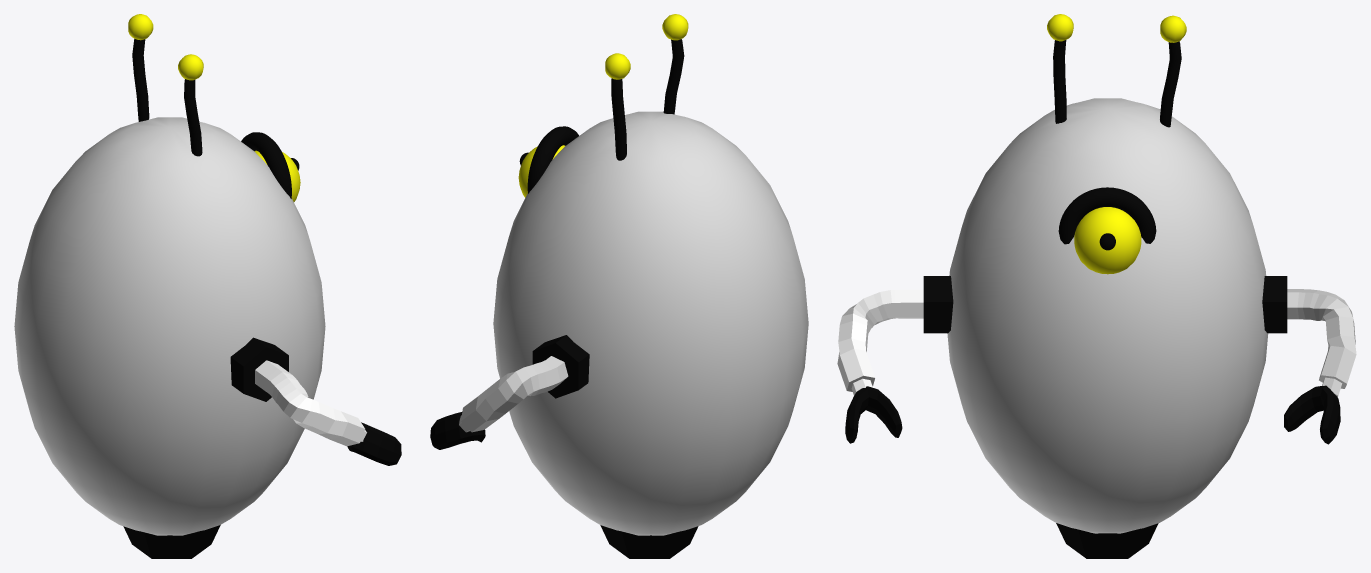
Rendered from New Robot Edited.fbx.
3 views of the same model, side by side, from view 1: azimuth 30°, elevation 25°; view 2: azimuth 150°, elevation 25°; view 3: azimuth 270°, elevation 25° (orthographic). The views are drawn at different scales.
Parts seen in each view (by area): view 1: Cylinder.003, Cylinder.002, Cylinder, Cylinder.001, Sphere.001, Sphere; view 2: Cylinder.003, Cylinder.002, Cylinder, Cylinder.001, Sphere.001, Sphere; view 3: Cylinder.003, Cylinder.002, Cylinder, Cylinder.001.
Part boxes in pixels (x1,y1,x2,y2): Cylinder.003: [14, 117, 401, 535]; Cylinder.002: [123, 525, 220, 558]; Cylinder: [132, 38, 149, 121]; Cylinder.001: [184, 79, 202, 156]; Sphere.001: [178, 54, 203, 80]; Sphere: [128, 14, 153, 40]; Cylinder.003: [430, 111, 808, 535]; Cylinder.002: [600, 525, 698, 558]; Cylinder: [611, 78, 626, 160]; Cylinder.001: [663, 39, 684, 114]; Sphere.001: [662, 14, 688, 40]; Sphere: [605, 53, 630, 79]; Cylinder.003: [837, 98, 1356, 533]; Cylinder.002: [1056, 523, 1158, 558]; Cylinder: [1160, 41, 1181, 127]; Cylinder.001: [1053, 40, 1066, 123].
Bounding box in the file's own units: 185 × 332 × 296.
